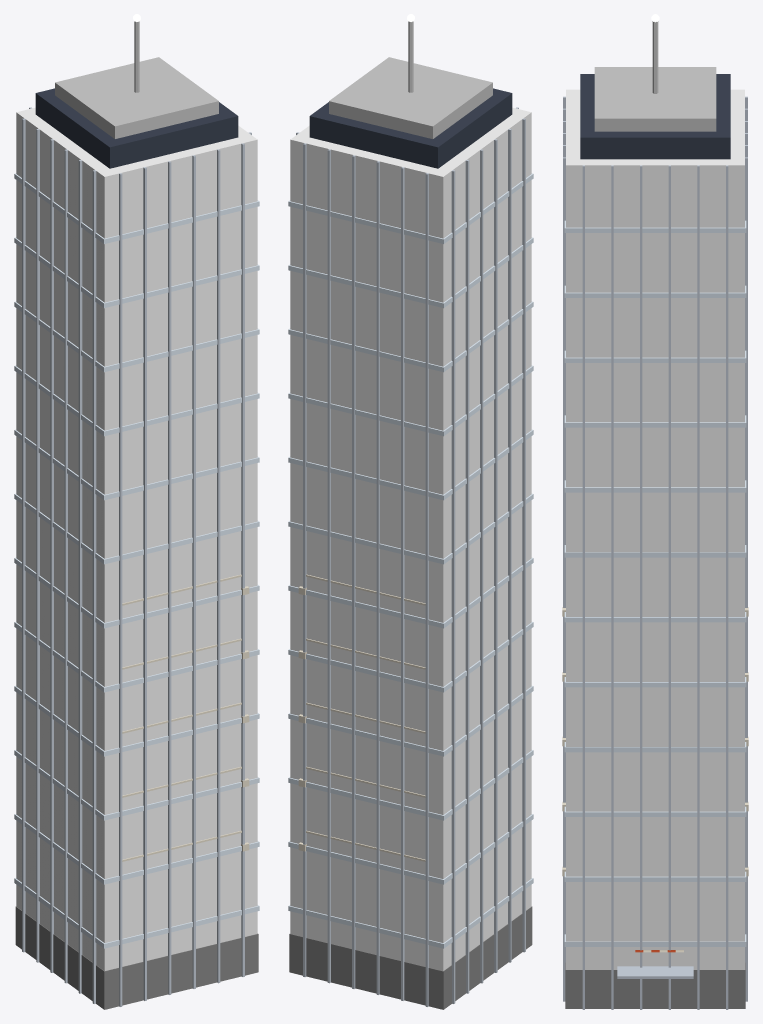
File: world_props.glb
The picture shows the model from 3 angles, left to right: view 1: azimuth 30°, elevation 25°; view 2: azimuth 150°, elevation 25°; view 3: azimuth 270°, elevation 25°; orthographic projection.
Parts seen in each view (by area): view 1: tower39_wall, tower39_fixed, tower30_fixed, tower21_fixed, tower30_wall, tower21_wall; view 2: tower39_wall, tower39_fixed, tower30_fixed, tower21_fixed, tower21_wall, tower30_wall; view 3: tower39_wall, tower39_fixed, tower30_fixed.
Boxes of the visible parts, x1=… form: tower39_wall: x1=16, y1=57, x2=258, y2=1009; tower39_fixed: x1=14, y1=21, x2=259, y2=1006; tower30_fixed: x1=14, y1=311, x2=259, y2=1003; tower21_fixed: x1=15, y1=514, x2=258, y2=993; tower30_wall: x1=15, y1=907, x2=104, y2=1009; tower21_wall: x1=15, y1=906, x2=257, y2=990; tower39_wall: x1=289, y1=57, x2=532, y2=1008; tower39_fixed: x1=288, y1=21, x2=533, y2=1006; tower30_fixed: x1=288, y1=311, x2=533, y2=1003; tower21_fixed: x1=289, y1=503, x2=532, y2=1006; tower21_wall: x1=289, y1=906, x2=532, y2=1009; tower30_wall: x1=289, y1=908, x2=532, y2=1009; tower39_wall: x1=565, y1=67, x2=745, y2=1008; tower39_fixed: x1=563, y1=21, x2=747, y2=1009; tower30_fixed: x1=564, y1=415, x2=746, y2=941.
Size of the model in its own units: 8.62 by 44.47 by 7.8.
